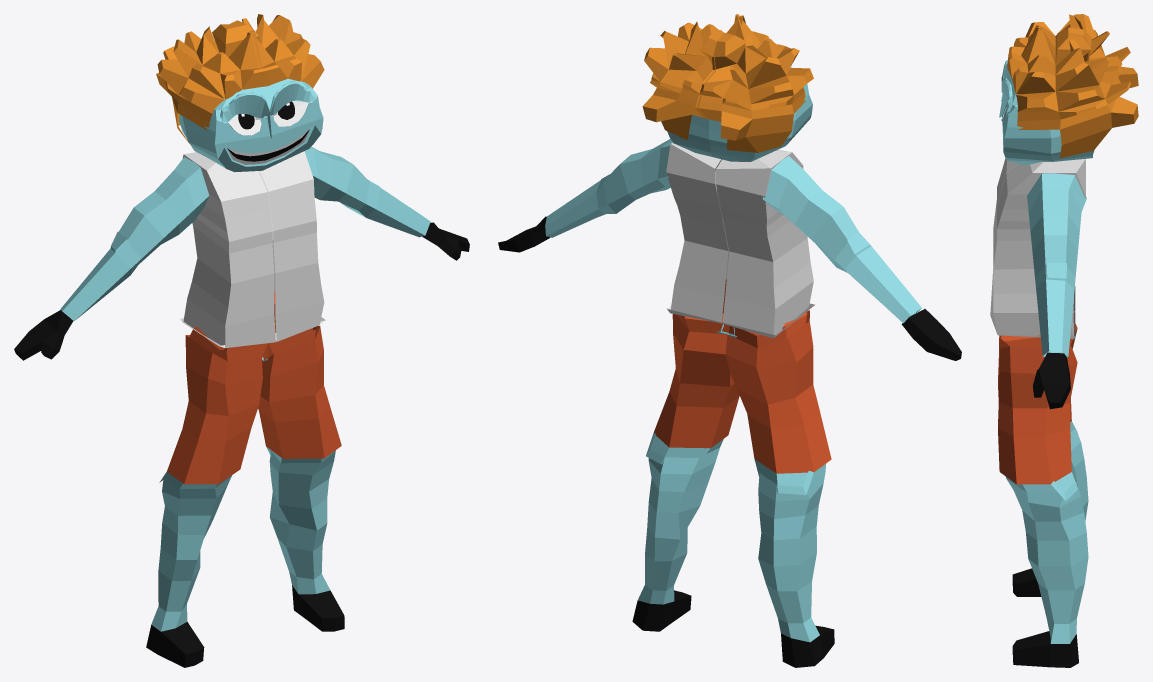
File: Modern Temoc.fbx
3 views of the same model, side by side, from view 1: azimuth 30°, elevation 25°; view 2: azimuth 150°, elevation 25°; view 3: azimuth 270°, elevation 25° (orthographic). The views are drawn at different scales.
Visible parts, largest first — view 1: Body; view 2: Body; view 3: Body.
Part boxes in pixels (box(x1,y1,x2,y2)): Body: box(14, 14, 469, 667); Body: box(498, 14, 961, 667); Body: box(990, 14, 1138, 667).
Bounding box in the file's own units: 371 × 476 × 107.
